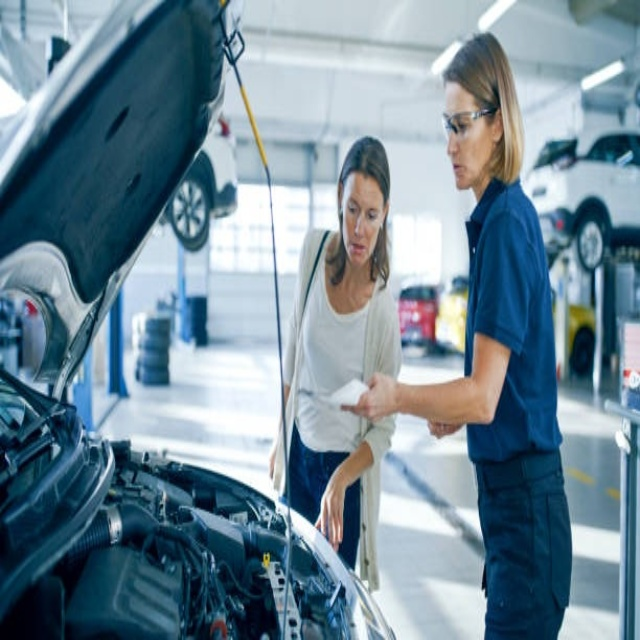Gafas: (441, 106, 496, 136)
Sin_gafas: (343, 188, 382, 223)
Sin_guantes: (339, 367, 398, 424), (318, 473, 346, 549)
Sin_mascara: (450, 153, 472, 193), (346, 233, 370, 264)
